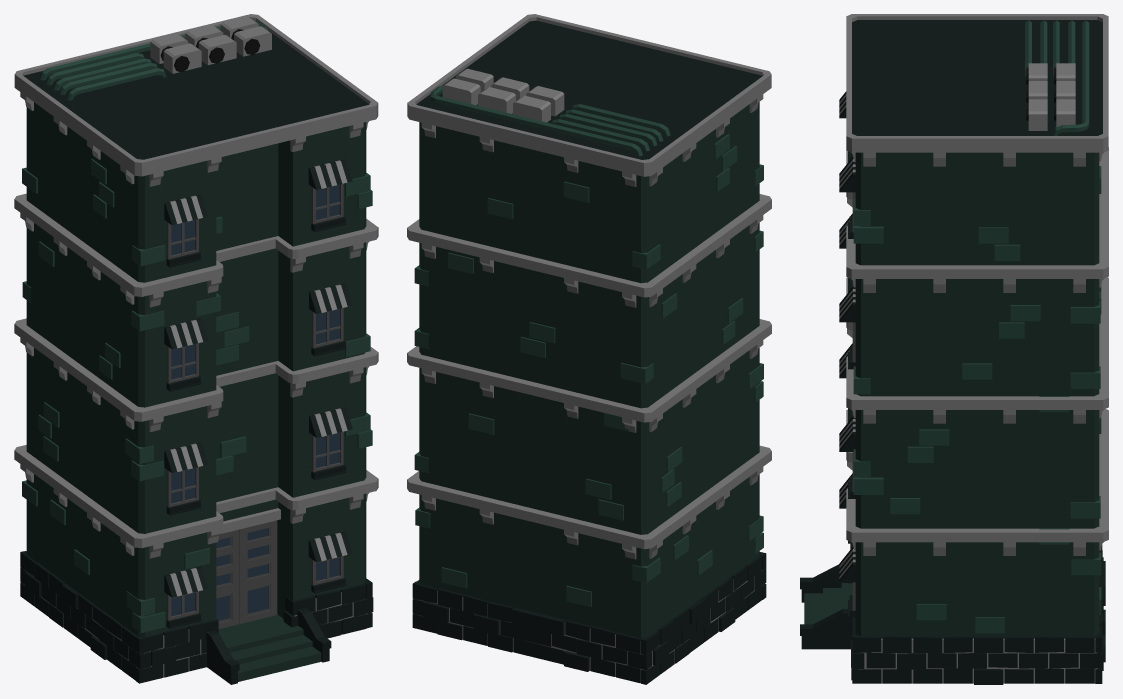
File: 4Story_Center.obj
3 views of the same model, side by side, from view 1: azimuth 30°, elevation 25°; view 2: azimuth 150°, elevation 25°; view 3: azimuth 270°, elevation 25° (orthographic). The views are drawn at different scales.
Parts seen in each view (by area): view 1: 4Story_Center_Mat_Cube.021; view 2: 4Story_Center_Mat_Cube.021; view 3: 4Story_Center_Mat_Cube.021.
Part boxes in pixels (x1,y1,x2,y2): 4Story_Center_Mat_Cube.021: (14, 14, 378, 684); 4Story_Center_Mat_Cube.021: (407, 14, 771, 684); 4Story_Center_Mat_Cube.021: (800, 14, 1108, 684).
Size of the model in its own units: 2.42 by 5.09 by 2.53.
